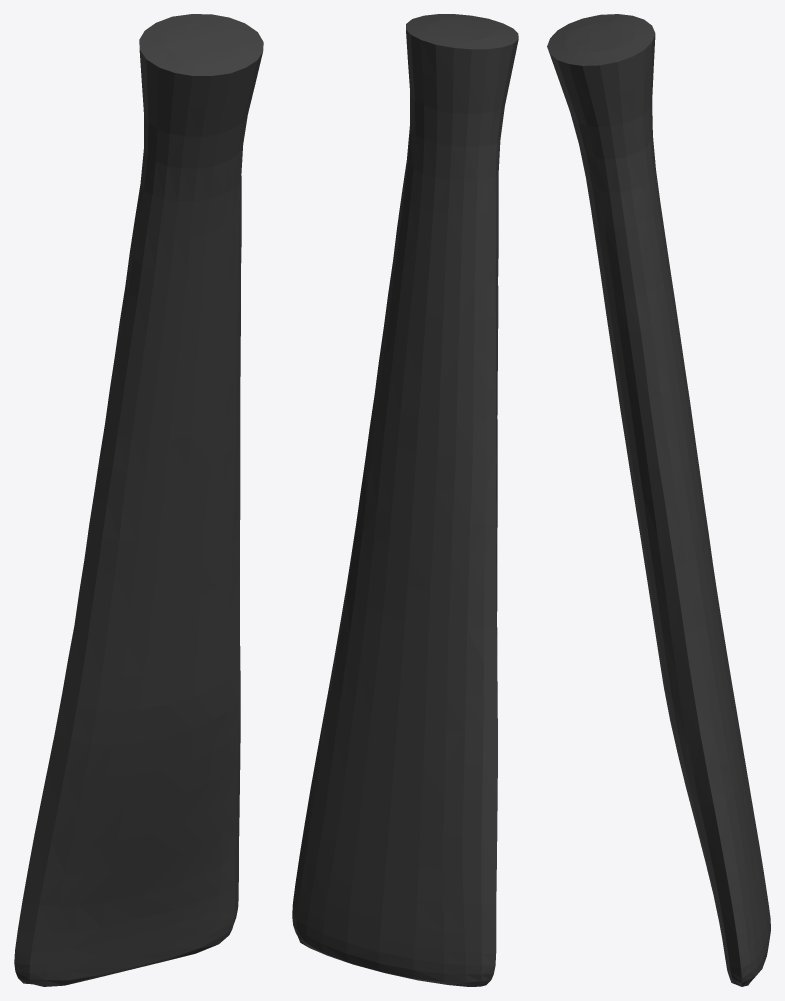
File: lig_cricothyroid_LO.glb
The picture shows the model from 3 angles, left to right: view 1: azimuth 30°, elevation 25°; view 2: azimuth 150°, elevation 25°; view 3: azimuth 270°, elevation 25°; orthographic projection. The views are drawn at different scales.
Parts seen in each view (by area): view 1: lig_cricothyroid_LO; view 2: lig_cricothyroid_LO; view 3: lig_cricothyroid_LO.
Part boxes in pixels (left/top/right/bottom): lig_cricothyroid_LO: left=14, top=14, right=263, bottom=986; lig_cricothyroid_LO: left=292, top=14, right=518, bottom=986; lig_cricothyroid_LO: left=547, top=14, right=770, bottom=986.
Bounding box in the file's own units: 0.033 × 0.1388 × 0.0308.
Materials: 1 (1 with a texture image).
